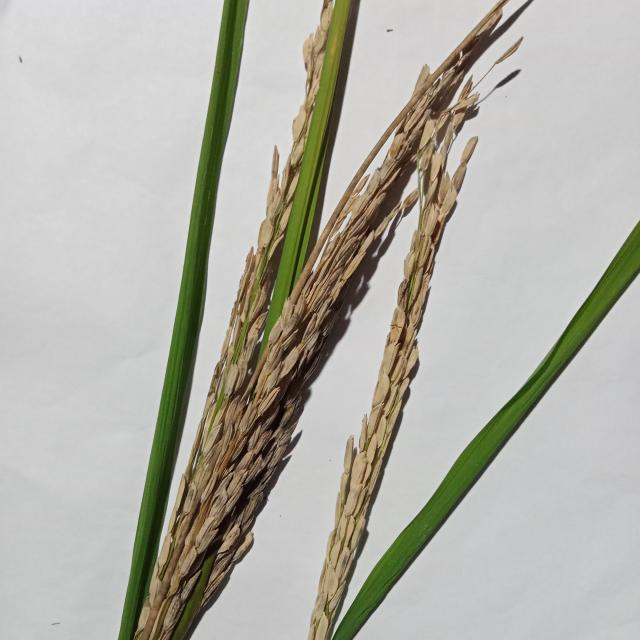Neck_Blast: (119, 0, 529, 640), (308, 138, 460, 640)
